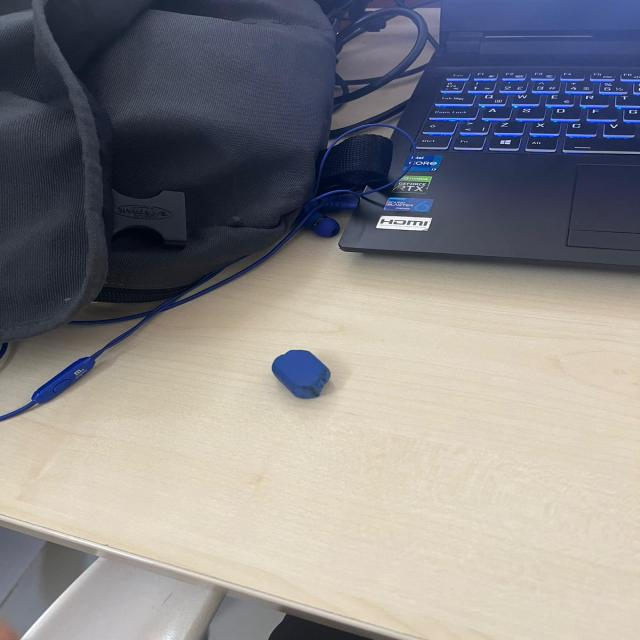eraser: (263, 346, 336, 403)
